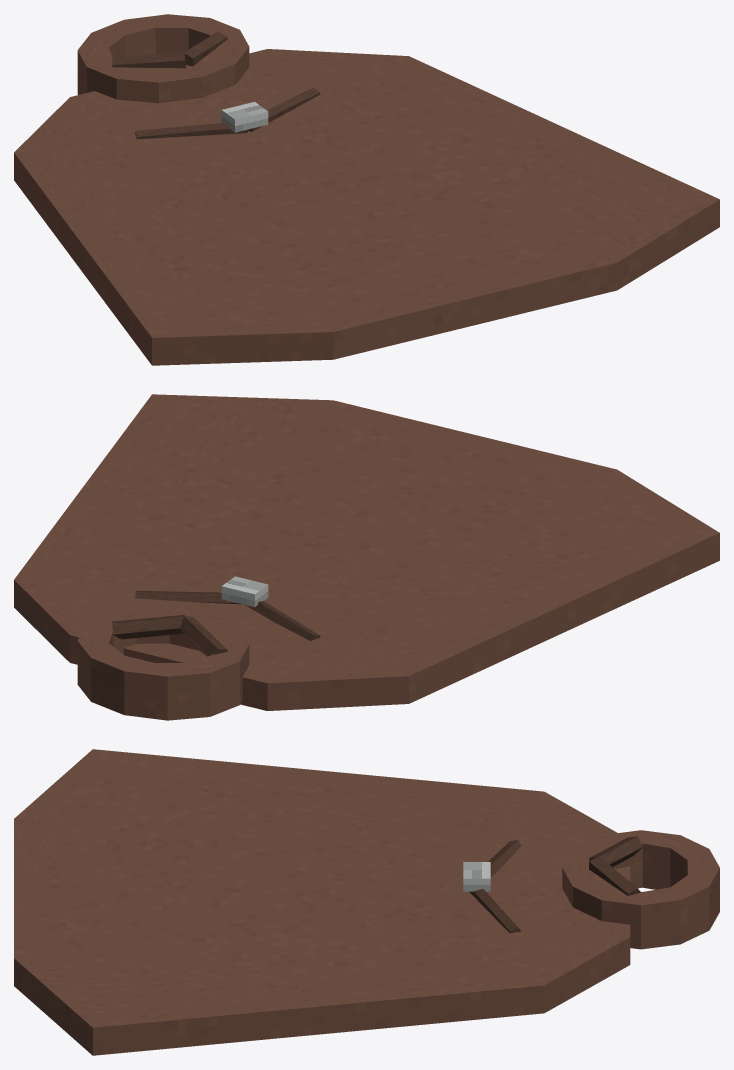
File: cloak_leather.glb
3 views of the same model, one above another, from view 1: azimuth 30°, elevation 25°; view 2: azimuth 150°, elevation 25°; view 3: azimuth 270°, elevation 25° (orthographic).
Parts seen in each view (by area): view 1: block_draped cape, block_folded hood, block_cloak clasp, block_neck tie 0, block_hood facing 0, block_hood facing 1, block_neck tie 1; view 2: block_draped cape, block_folded hood, block_hood facing 1, block_cloak clasp, block_neck tie 1, block_hood facing 0, block_neck tie 0; view 3: block_draped cape, block_folded hood, block_cloak clasp, block_hood facing 1, block_hood facing 0, block_neck tie 1, block_neck tie 0.
Part boxes in pixels (x1,y1,x2,y2): block_draped cape: [14, 49, 719, 365]; block_folded hood: [77, 14, 249, 103]; block_cloak clasp: [221, 102, 268, 132]; block_neck tie 0: [135, 122, 247, 139]; block_hood facing 0: [112, 52, 185, 68]; block_hood facing 1: [183, 31, 227, 66]; block_neck tie 1: [248, 87, 320, 131]; block_draped cape: [14, 394, 719, 710]; block_folded hood: [77, 608, 249, 720]; block_hood facing 1: [112, 615, 184, 639]; block_cloak clasp: [221, 576, 268, 607]; block_neck tie 1: [135, 590, 241, 604]; block_hood facing 0: [180, 616, 227, 656]; block_neck tie 0: [245, 601, 320, 640]; block_draped cape: [14, 749, 630, 1055]; block_folded hood: [562, 830, 719, 949]; block_cloak clasp: [463, 862, 490, 891]; block_hood facing 1: [589, 856, 640, 895]; block_hood facing 0: [589, 836, 642, 866]; block_neck tie 1: [469, 889, 521, 933]; block_neck tie 0: [488, 840, 521, 877].
Bounding box in the file's own units: 0.6736 × 0.0676 × 0.7212.
Materials: 1 (1 with a texture image).
